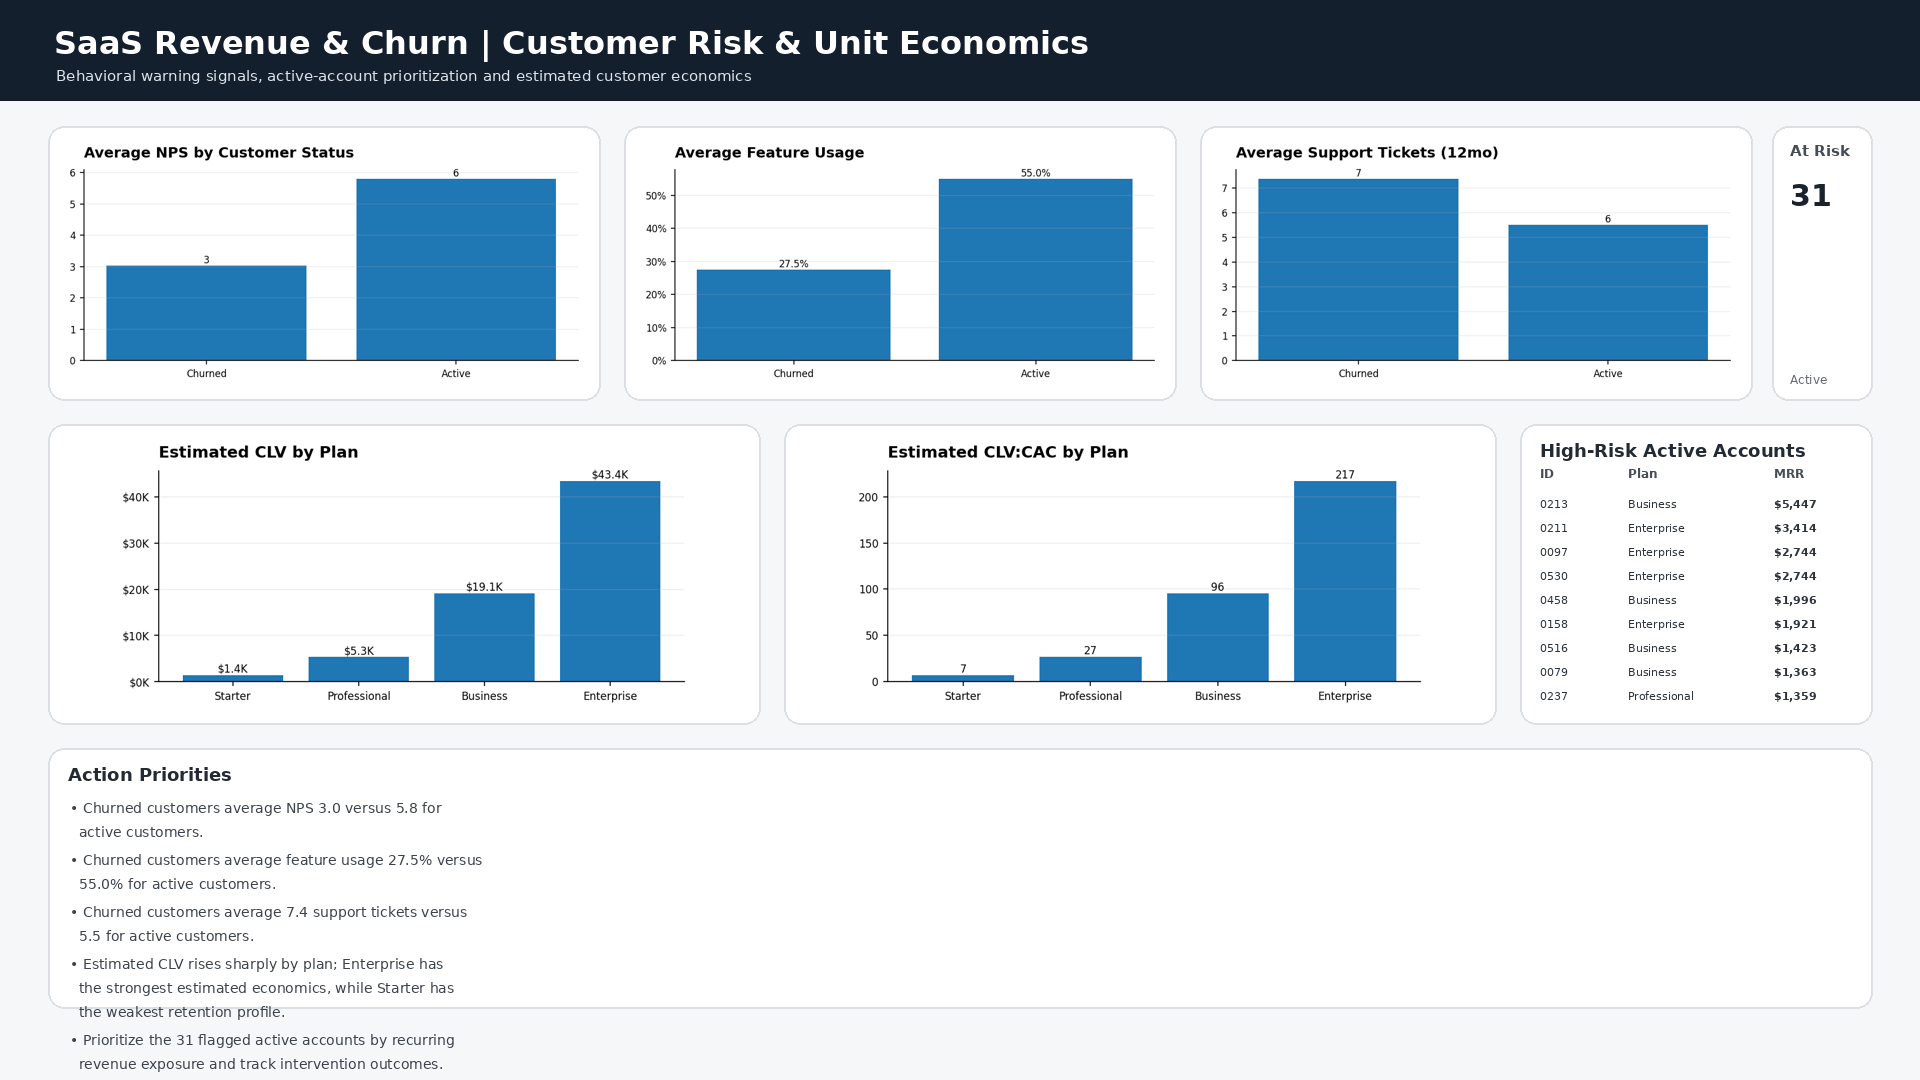

The page's visual inventory and layout, read from the dashboard file:
{"tool":"powerbi","page":{"name":"Customer Risk & Unit Economics","canvas":[1920,1080],"ordinal":2},"visuals":[{"type":"clusteredColumnChart","title":"NPS by Churn Status","fields":{"Category":["subscriptions.churned"],"Y":["subscriptions.Average NPS"]},"box":[16,60,460,280],"z":0},{"type":"clusteredColumnChart","fields":{"Category":["subscriptions.churned"],"Y":["subscriptions.Average Feature Usage"]},"box":[492,70,460,280],"z":1000},{"type":"clusteredColumnChart","title":"Support Tickets by Churn Status","fields":{"Category":["subscriptions.churned"],"Y":["subscriptions.Average Support Tickets"]},"box":[968,60,460,280],"z":2000},{"type":"cardVisual","fields":{"Data":["subscriptions.At-Risk Customers"]},"box":[1444,70,460,280],"z":3000},{"type":"clusteredColumnChart","title":"Customer Lifetime Value (CLV) by Plan","fields":{"Category":["subscriptions.plan"],"Y":["subscriptions.Estimated CLV"]},"box":[16,366,460,280],"z":4000},{"type":"clusteredColumnChart","title":"CLV:CAC Ratio by Plan","fields":{"Category":["subscriptions.plan"],"Y":["subscriptions.CLV to CAC Ratio"]},"box":[492,366,460,280],"z":5000},{"type":"tableEx","title":"Risk & Profitability Prioritization by Segment","fields":{"Values":["subscriptions.Risk Segment","subscriptions.Total Customers","subscriptions.At-Risk Customers","subscriptions.Churn Rate","subscriptions.Estimated CLV","subscriptions.Lost MRR","subscriptions.Average NPS"]},"box":[968,366,936,280],"z":6000},{"type":"textbox","box":[16,666,1880,100],"z":7000},{"type":"textbox","box":[16,16,1880,40],"z":8000},{"type":"textbox","box":[16,782,1880,224],"z":9000}]}

Visuals, with their boxes in screenshot pixels (x1, y1, x2, y2), scaled from the page's 1920x1080 canvas onto the 1920x1080 screenshot:
"NPS by Churn Status" clusteredColumnChart: [x1=16, y1=60, x2=476, y2=340]
clusteredColumnChart - subscriptions.churned x subscriptions.Average Feature Usage: [x1=492, y1=70, x2=952, y2=350]
"Support Tickets by Churn Status" clusteredColumnChart: [x1=968, y1=60, x2=1428, y2=340]
cardVisual - subscriptions.At-Risk Customers: [x1=1444, y1=70, x2=1904, y2=350]
"Customer Lifetime Value (CLV) by Plan" clusteredColumnChart: [x1=16, y1=366, x2=476, y2=646]
"CLV:CAC Ratio by Plan" clusteredColumnChart: [x1=492, y1=366, x2=952, y2=646]
"Risk & Profitability Prioritization by Segment" tableEx: [x1=968, y1=366, x2=1904, y2=646]
textbox: [x1=16, y1=666, x2=1896, y2=766]
textbox: [x1=16, y1=16, x2=1896, y2=56]
textbox: [x1=16, y1=782, x2=1896, y2=1006]
